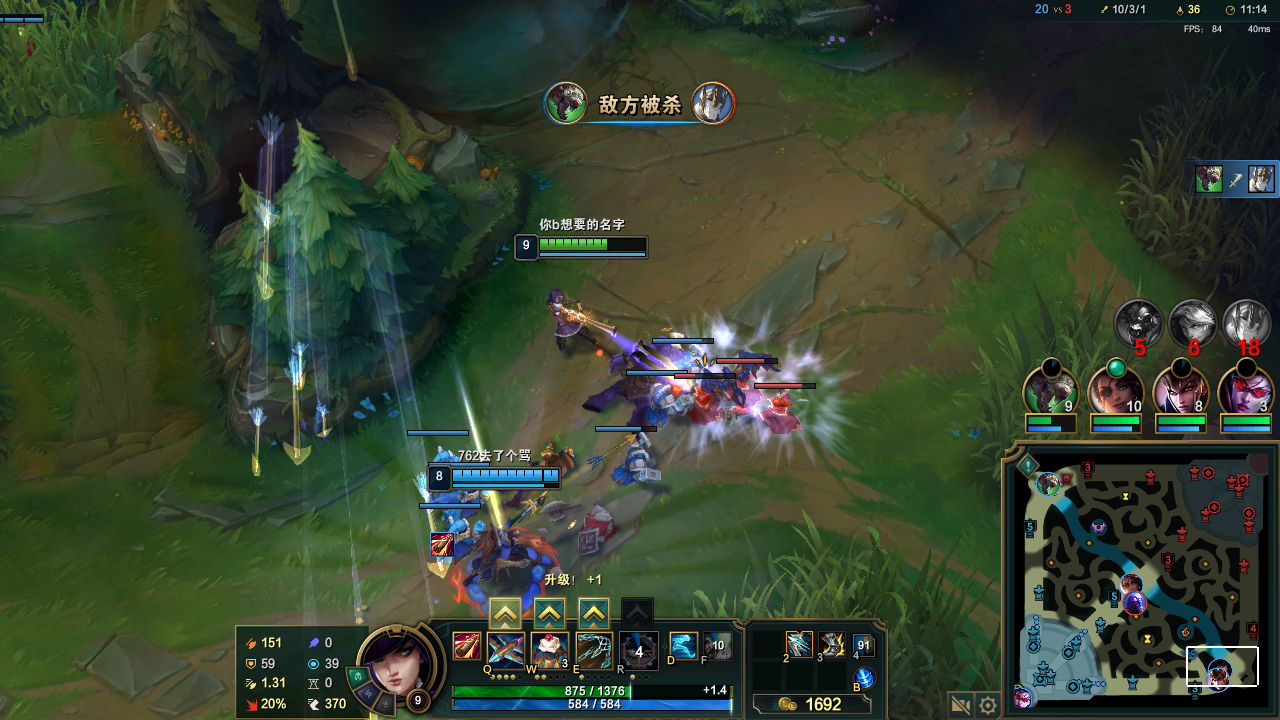DFXB: (690, 391, 730, 430), (761, 397, 810, 425), (732, 373, 763, 406)
Shenji: (579, 608, 607, 628), (534, 603, 558, 626), (492, 603, 520, 620)
WFXB: (607, 435, 660, 492), (449, 515, 474, 551), (428, 445, 459, 462)
